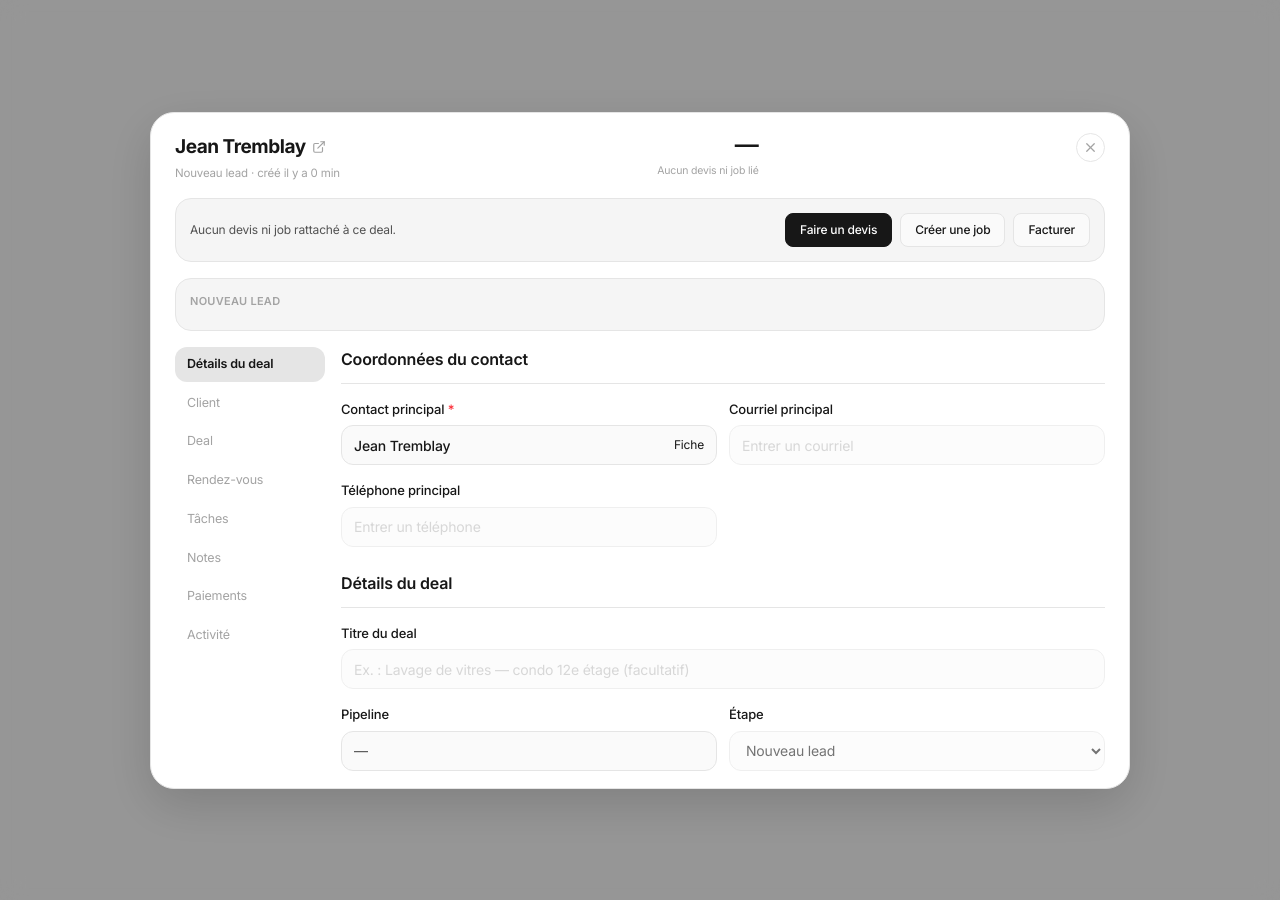
Test: fiche du deal — motifs de perte › propose les motifs de la liste quand on vise une étape perdue
Click the tab "Deal". click: (250, 442)
box: [175,424,325,459]
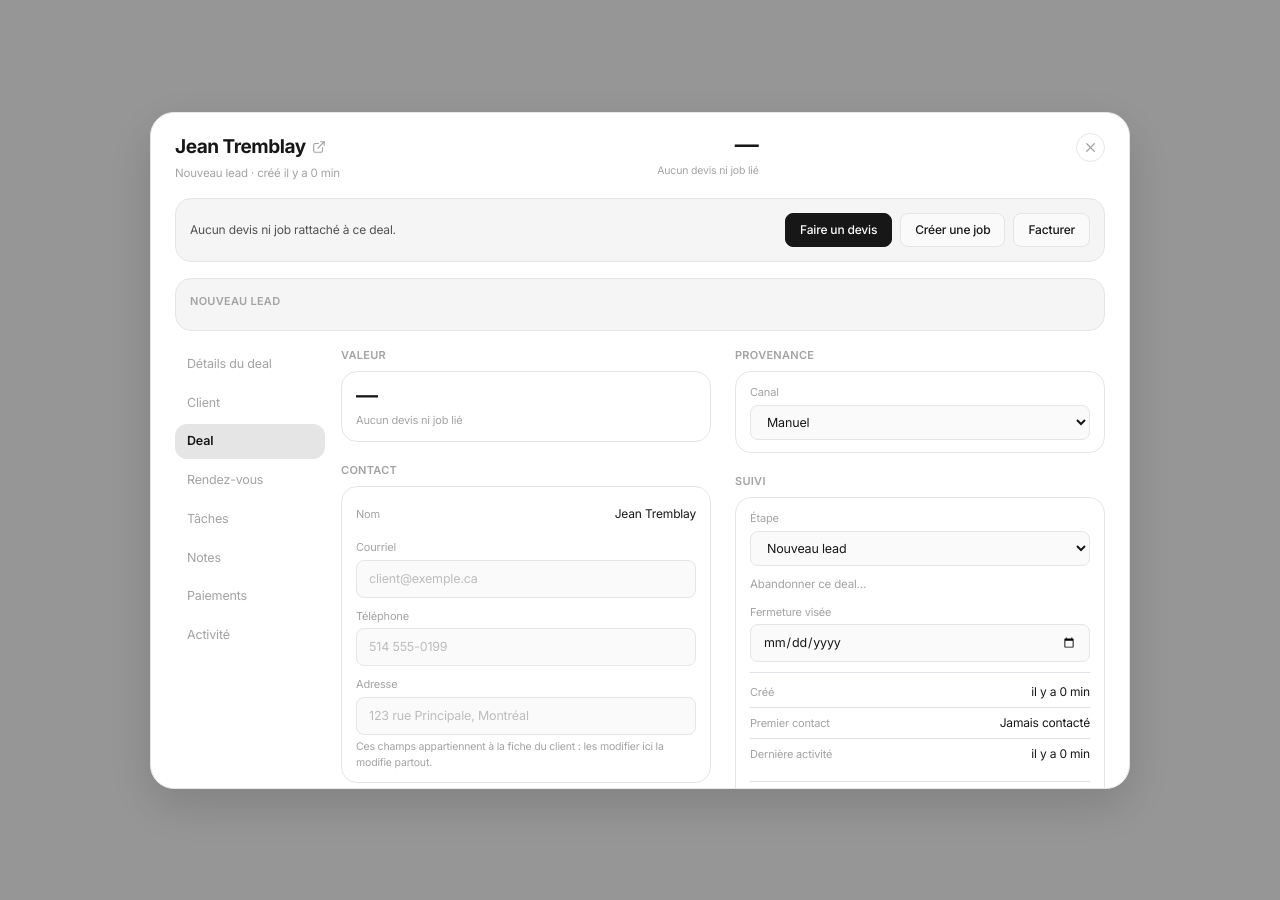
Expected: the dropdown labelled "Étape" is shown
Select "Perdu" in the dropdown labelled "Étape". click: (920, 548)
box: [750,531,1090,566]
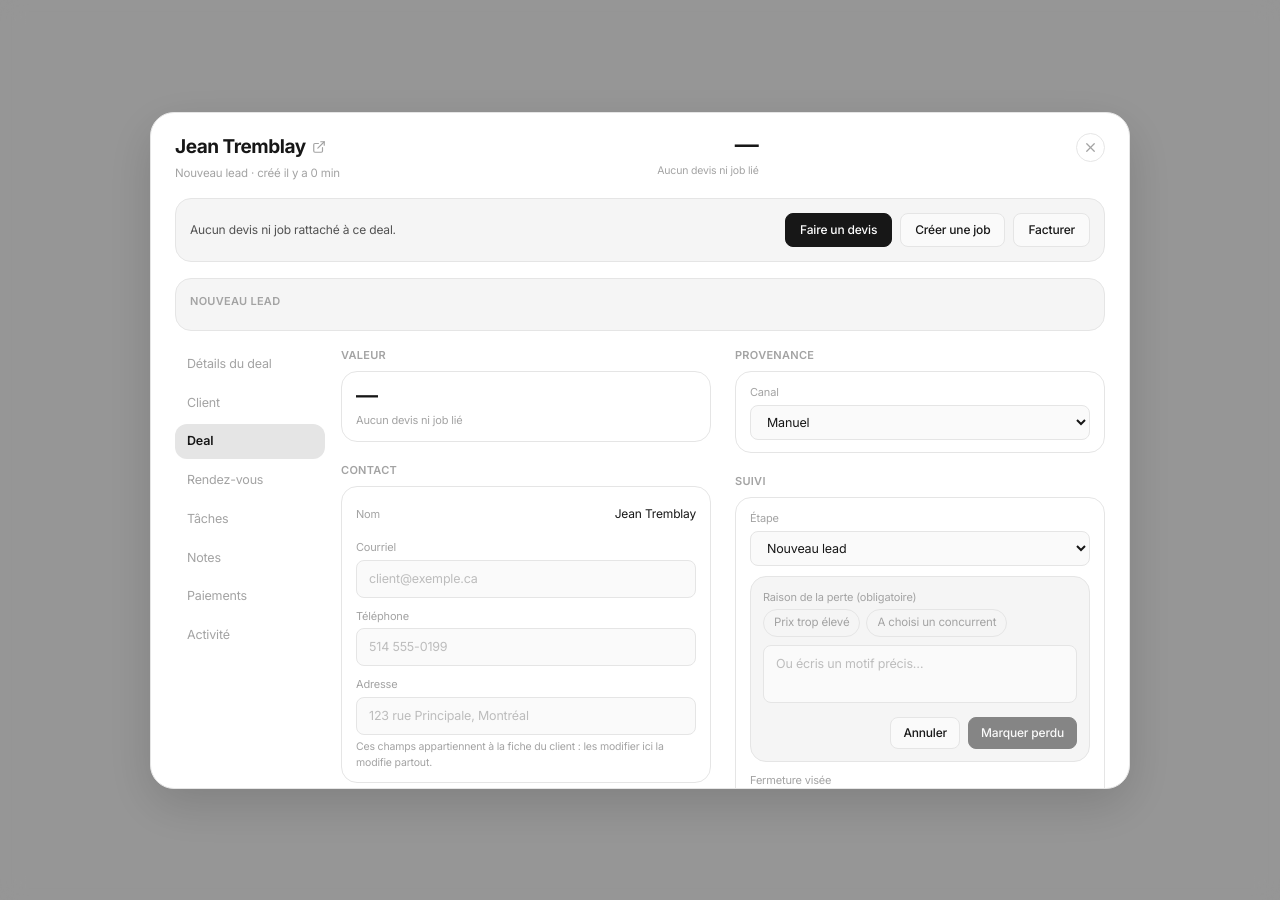
Expected: the text "Prix trop élevé" is shown, [763,609,860,637]
Expected: the text "A choisi un concurrent" is shown, [866,609,1007,637]
